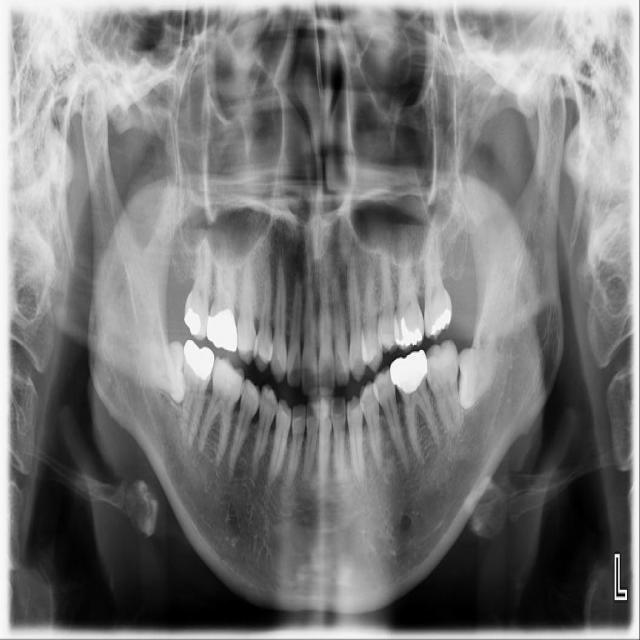Crown: (390, 350, 427, 399), (206, 307, 238, 353), (183, 339, 214, 379)
Filling: (397, 318, 424, 347), (427, 310, 450, 336), (184, 308, 203, 334)
impacted tooth: (130, 342, 184, 405), (458, 335, 498, 406)
